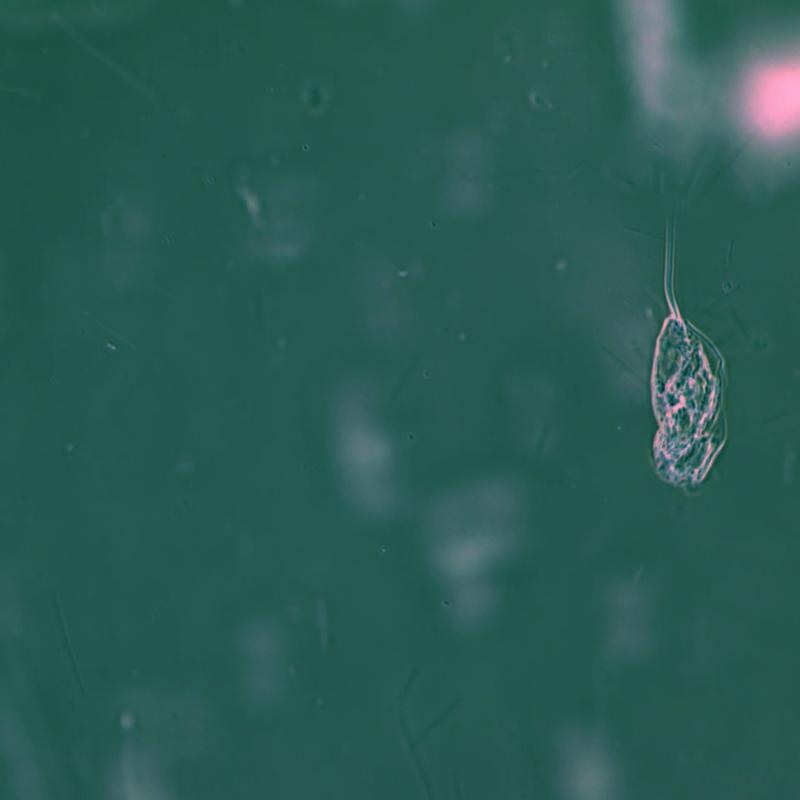depth:0: (611, 200, 752, 533)
